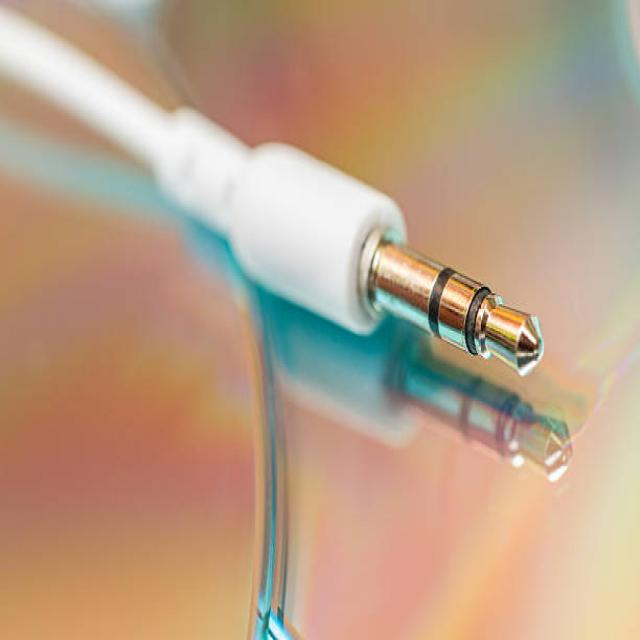Earphone: (1, 12, 546, 379)
